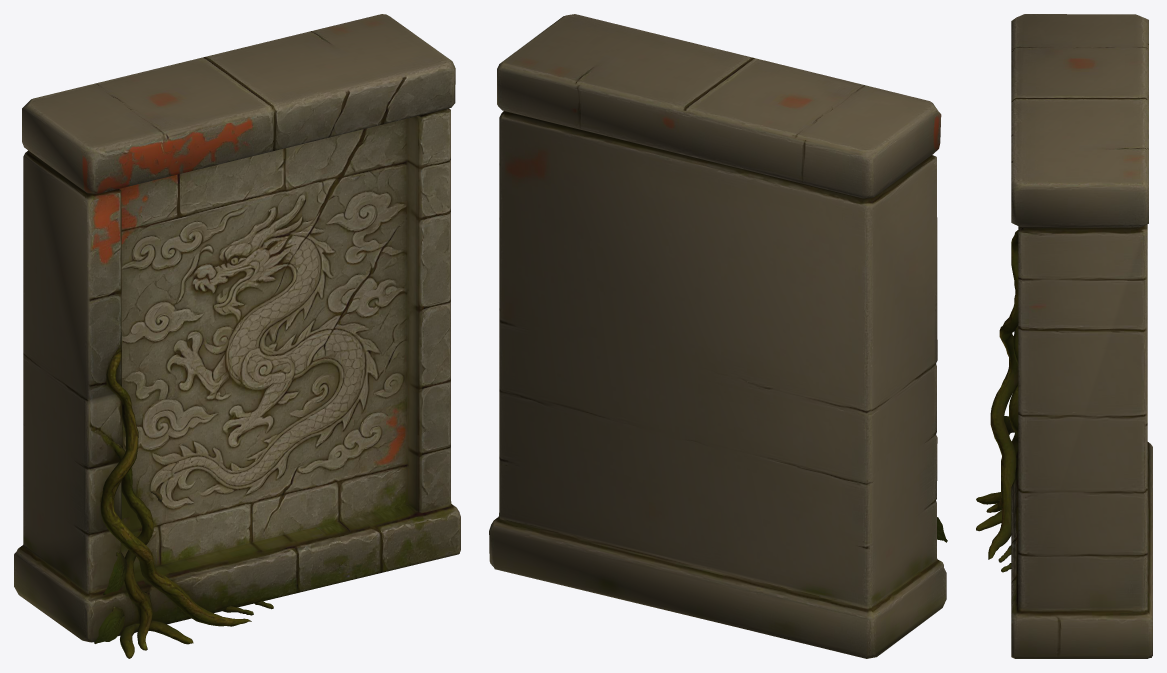
Rendered from selected.glb.
3 renders of one model, left to right at view 1: azimuth 30°, elevation 25°; view 2: azimuth 150°, elevation 25°; view 3: azimuth 270°, elevation 25°, orthographic. The views are drawn at different scales.
Visible parts, largest first — view 1: tripo_node_740e642a-6c54-4dfb-843b-56efa9678bde; view 2: tripo_node_740e642a-6c54-4dfb-843b-56efa9678bde; view 3: tripo_node_740e642a-6c54-4dfb-843b-56efa9678bde.
Boxes of the visible parts, x1,y1,x2,y2 form: tripo_node_740e642a-6c54-4dfb-843b-56efa9678bde: [14, 14, 460, 658]; tripo_node_740e642a-6c54-4dfb-843b-56efa9678bde: [489, 14, 947, 658]; tripo_node_740e642a-6c54-4dfb-843b-56efa9678bde: [976, 14, 1152, 658].
Size of the model in its own units: 0.7871 by 0.998 by 0.334.
Materials: 1 (1 with a texture image).
